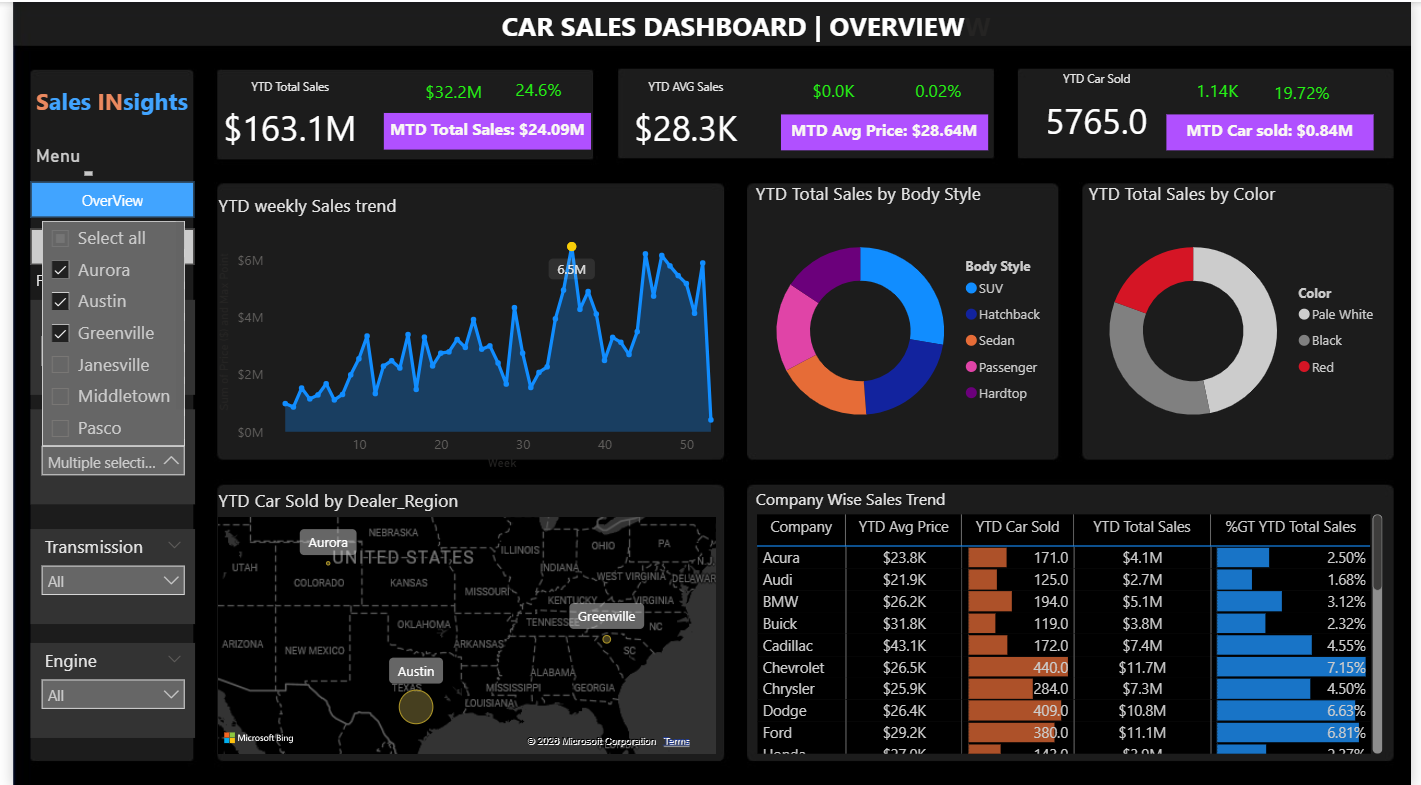

The dashboard page shown, as its layout file describes it:
{"tool":"powerbi","page":{"name":"OverView ","canvas":[1280,720],"ordinal":0},"visuals":[{"type":"card","title":"YTD Total Sales","fields":{"Values":["car_data.YTD Total Sales"]},"box":[166.7,70,173.3,78.3],"z":0},{"type":"card","fields":{"Values":["car_data.Sales Diffrence"]},"box":[355,65,96.7,36.7],"z":1000},{"type":"card","fields":{"Values":["car_data.YTY total Growth"]},"box":[433.3,68.3,96.7,28.3],"z":2000},{"type":"card","fields":{"Values":["car_data.MTD KPI"]},"box":[340,101.7,190,33.3],"z":3000},{"type":"card","title":"YTD AVG Sales","fields":{"Values":["car_data.YTD Avg Car Price"]},"box":[530,70,173.3,78.3],"z":4000},{"type":"card","fields":{"Values":["car_data.Avg Price Diff"]},"box":[703.3,60,96.7,46.7],"z":5000},{"type":"card","fields":{"Values":["car_data.YOY Avg Price Growth"]},"box":[798.9,60.2,96.3,46.6],"z":6000},{"type":"card","title":"MTD Avg Price","fields":{"Values":["car_data.MTD Avg Price KPI"]},"box":[702.6,102.3,189.6,33.1],"z":7000},{"type":"card","title":"YTD Car Sold","fields":{"Values":["car_data.YTD Car Sold"]},"box":[905.7,63.2,174.5,78.2],"z":8000},{"type":"card","fields":{"Values":["car_data.Diff b/w Car Sold"]},"box":[1054.7,60.2,96.3,46.6],"z":9000},{"type":"card","fields":{"Values":["car_data.YOY Car sold growth"]},"box":[1132.9,61.7,96.3,46.6],"z":10000},{"type":"card","title":"MTD Avg Price","fields":{"Values":["car_data.MTD Car Sold KPI"]},"box":[1056.2,102.3,189.6,33.1],"z":11000},{"type":"areaChart","title":"YTD weekly Sales trend","fields":{"Y":["Sum(car_data.Price ($))","car_data.Max Point"],"Category":["Calendar Table.Week"]},"box":[183.1,175.1,478.6,258],"z":12000},{"type":"donutChart","fields":{"Category":["car_data.Body Style"],"Y":["car_data.YTD Total Sales"]},"box":[675.5,164,279.8,252.8],"z":13000},{"type":"donutChart","fields":{"Y":["car_data.YTD Total Sales"],"Category":["car_data.Color"]},"box":[979.4,164,279.8,252.8],"z":14000},{"type":"map","fields":{"Category":["car_data.Dealer_Region"],"Size":["car_data.YTD Car Sold"]},"box":[183.5,445.3,466.4,248.2],"z":15000},{"type":"tableEx","title":"Company Wise Sales Trend","fields":{"Values":["car_data.Company","car_data.YTD Avg Price","car_data.YTD Car Sold","car_data.YTD Total Sales1","car_data.YTD Total Sales"]},"box":[675.5,445.3,583.7,248.2],"z":16000},{"type":"textbox","box":[442.5,0,466.6,65.5],"z":17000},{"type":"slicer","fields":{"Values":["car_data.Body Style"]},"box":[16,272.9,151,87.1],"z":18000},{"type":"slicer","fields":{"Values":["car_data.Dealer_Region"]},"box":[16,373.1,151,87.1],"z":19000},{"type":"slicer","fields":{"Values":["car_data.Transmission"]},"box":[16,482,151,87.1],"z":20000},{"type":"slicer","fields":{"Values":["car_data.Engine"]},"box":[16,586.5,151,87.1],"z":21000},{"type":"textbox","box":[16.5,240.7,117.4,31.6],"z":22000},{"type":"textbox","title":"Menu","box":[16.5,130.9,61.7,33.1],"z":23000},{"type":"pageNavigator","box":[16.5,164,150.5,76.7],"z":24000},{"type":"textbox","box":[16.5,70.7,150.5,45.1],"z":25000}]}

Visuals, with their boxes on the page's 1280x720 design canvas (x1, y1, x2, y2). These are canvas units, not pixel positions in the 1421x785 screenshot, which may show the page scaled, cropped or inside an application window:
"YTD Total Sales" card: 167, 70, 340, 148
card - car_data.Sales Diffrence: 355, 65, 452, 102
card - car_data.YTY total Growth: 433, 68, 530, 97
card - car_data.MTD KPI: 340, 102, 530, 135
"YTD AVG Sales" card: 530, 70, 703, 148
card - car_data.Avg Price Diff: 703, 60, 800, 107
card - car_data.YOY Avg Price Growth: 799, 60, 895, 107
"MTD Avg Price" card: 703, 102, 892, 135
"YTD Car Sold" card: 906, 63, 1080, 141
card - car_data.Diff b/w Car Sold: 1055, 60, 1151, 107
card - car_data.YOY Car sold growth: 1133, 62, 1229, 108
"MTD Avg Price" card: 1056, 102, 1246, 135
"YTD weekly Sales trend" areaChart: 183, 175, 662, 433
donutChart - car_data.Body Style x car_data.YTD Total Sales: 676, 164, 955, 417
donutChart - car_data.YTD Total Sales x car_data.Color: 979, 164, 1259, 417
map - car_data.Dealer_Region x car_data.YTD Car Sold: 184, 445, 650, 694
"Company Wise Sales Trend" tableEx: 676, 445, 1259, 694
textbox: 442, 0, 909, 66
slicer - car_data.Body Style: 16, 273, 167, 360
slicer - car_data.Dealer_Region: 16, 373, 167, 460
slicer - car_data.Transmission: 16, 482, 167, 569
slicer - car_data.Engine: 16, 586, 167, 674
textbox: 16, 241, 134, 272
"Menu" textbox: 16, 131, 78, 164
pageNavigator: 16, 164, 167, 241
textbox: 16, 71, 167, 116
